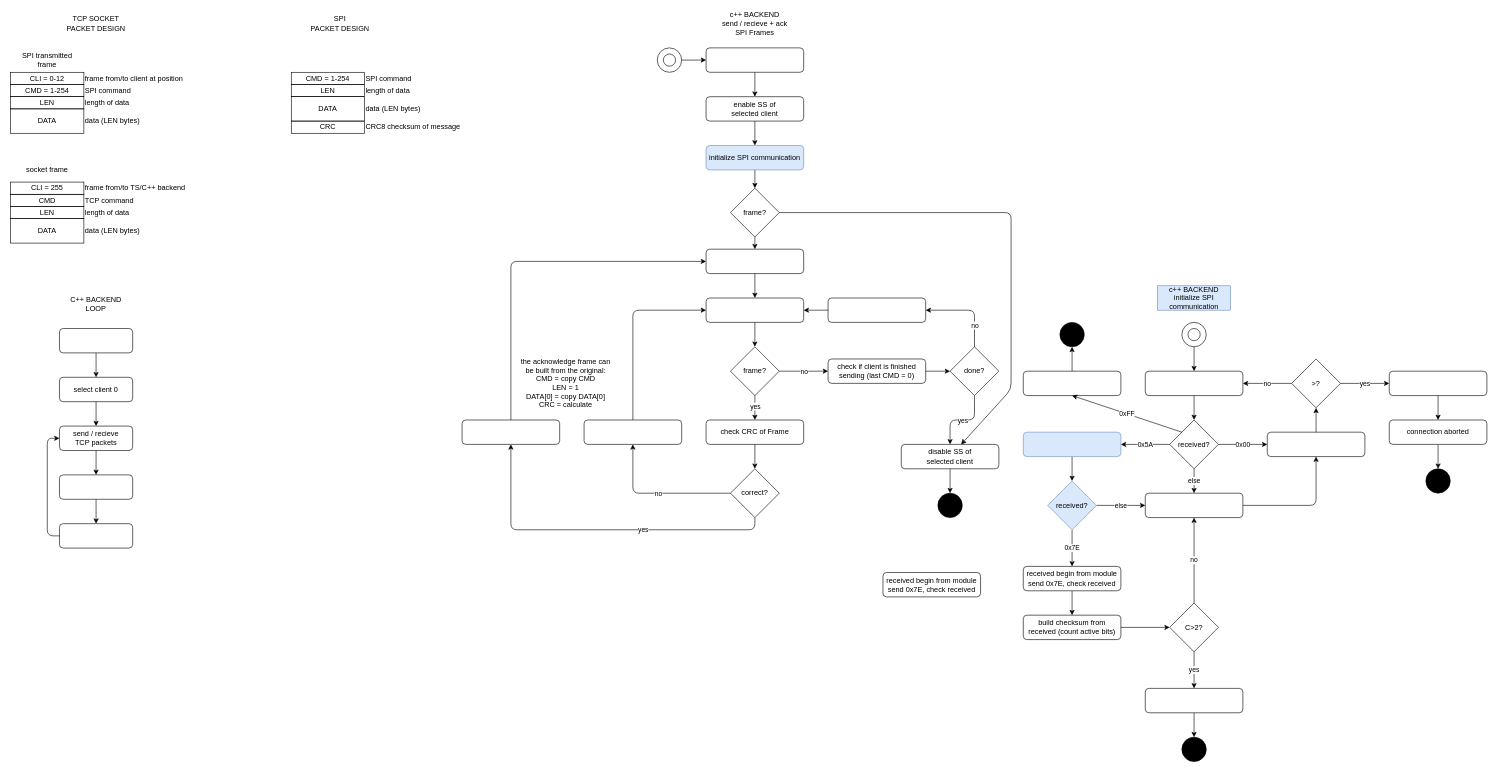
The diagram is 1498 pixels wide and 772 high, and some of its shapes have lost their labels. The shapes that lost their labels are listed below. From the top down, each one's centre as x and y in pixels, then its label:
At point 754,59: "create output buffer for selected client".
At point 754,261: "send output buffer and add to imput buffer".
At point 754,309: "check if unparsed full frame in input buffer".
At point 876,309: "send 0x00 and add to input buffer".
At point 96,340: "wait for TCP connection".
At point 1072,383: "no module connected".
At point 1194,383: "waiting send 0x00, check received".
At point 1438,383: "add SpiError initTimeout-FromModule to CLI buffer".
At point 510,431: "add frame to CLI buffer add ACK to output buffer".
At point 632,431: "add CRCError to CLI buffer".
At point 1072,444: "received begin from module send 0x5A, check received".
At point 1316,444: "add 1 to loopcounter, check counter>max_counter".
At point 96,486: "send / recieve + ack SPI frames".
At point 1194,505: "add SpiError initError-FromModule to CLI buffer".
At point 96,535: "select next client".
At point 1194,700: "connection initialized".
